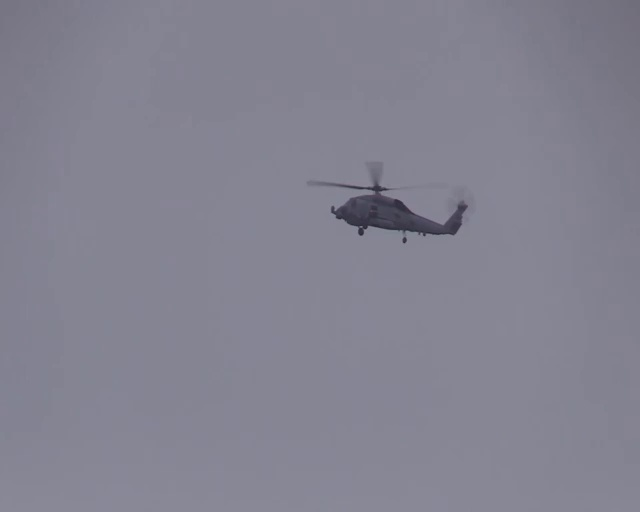HELICOPTER: (306, 161, 471, 243)
